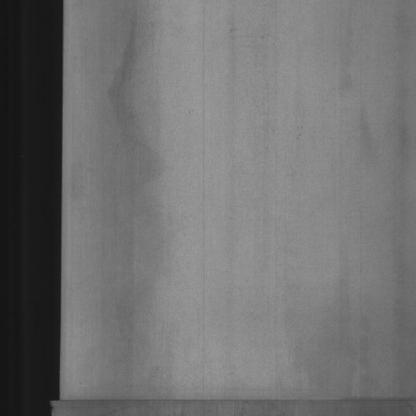welding_line: (34, 387, 413, 410)
